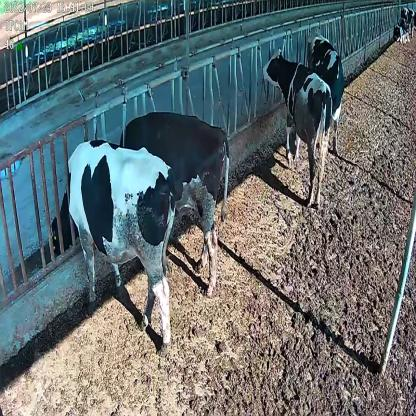cow: (51, 137, 176, 352), (119, 111, 230, 298), (260, 45, 334, 213), (306, 32, 345, 156)
